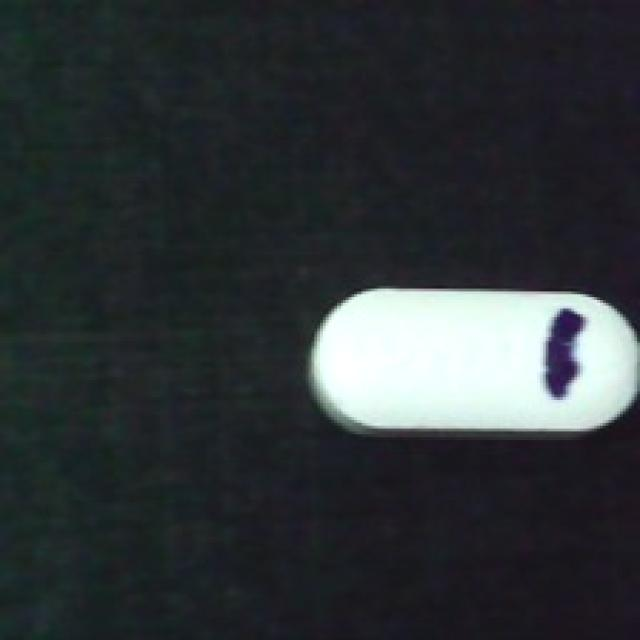defected: (303, 263, 640, 446)
